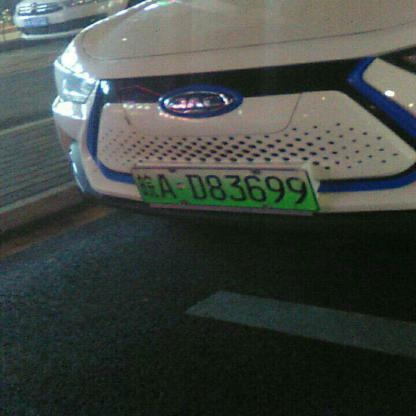lp: (129, 168, 318, 209)
